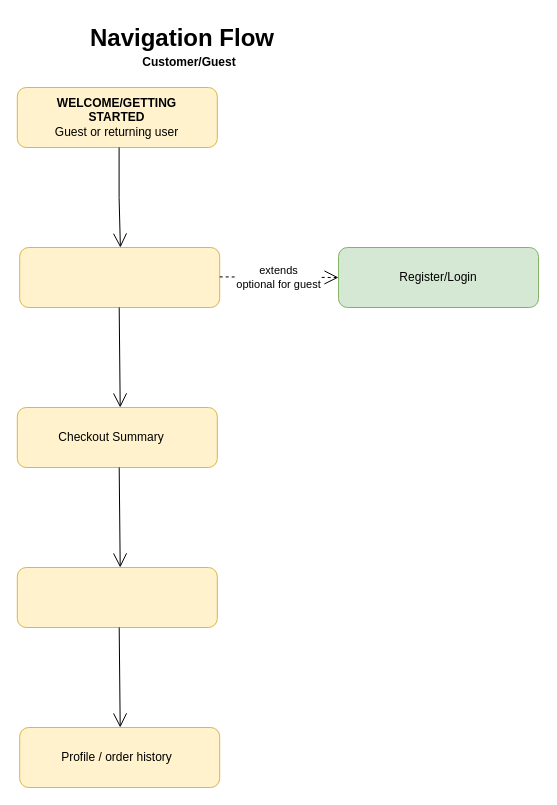
Some shapes in this 557 by 805 pixel diagram are drawn without their labels. Here are the shapes that lost their labels. From the top down, the centre of each, then its label:
[119,277]: Menu / Home Browse items, add to cart
[116,597]: Track Order Live status updates
